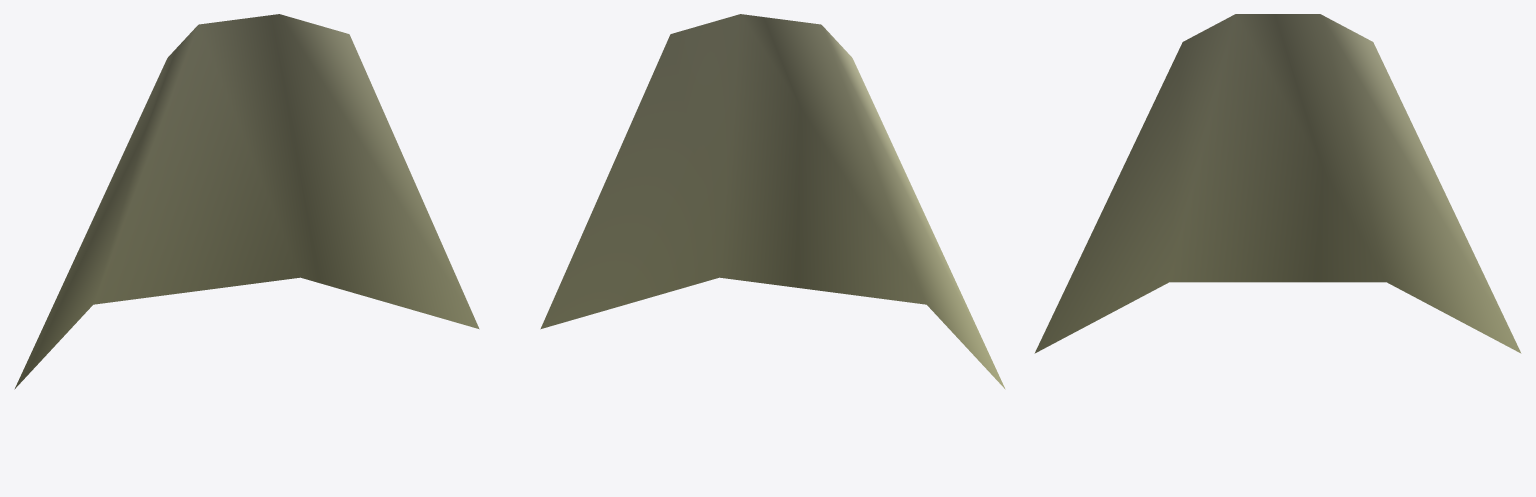
File: UmbrellaLampLight.glb
The picture shows the model from 3 angles, left to right: view 1: azimuth 30°, elevation 25°; view 2: azimuth 150°, elevation 25°; view 3: azimuth 270°, elevation 25°; orthographic projection.
Visible parts, largest first — view 1: UmbrellaLampLight; view 2: UmbrellaLampLight; view 3: UmbrellaLampLight.
Boxes of the visible parts, <box> form: UmbrellaLampLight: <box>14,14,479,389</box>; UmbrellaLampLight: <box>540,14,1005,389</box>; UmbrellaLampLight: <box>1034,14,1521,353</box>.
Size of the model in its own units: 1.03 by 0.7857 by 1.06.
